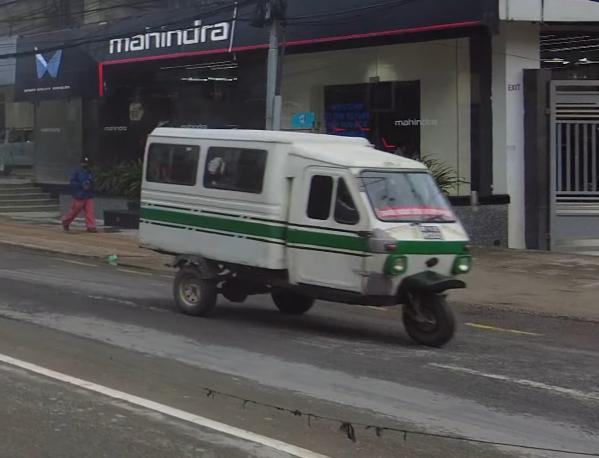tempo: (139, 125, 474, 351)
